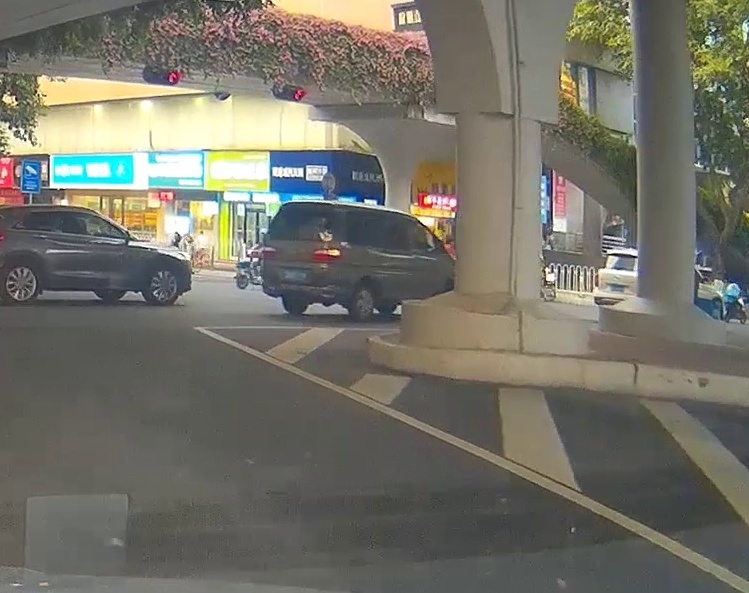L_light: (261, 246, 277, 257)
R_light: (313, 249, 340, 259)
T_light: (304, 203, 317, 207)
day-right: (260, 200, 342, 319)
